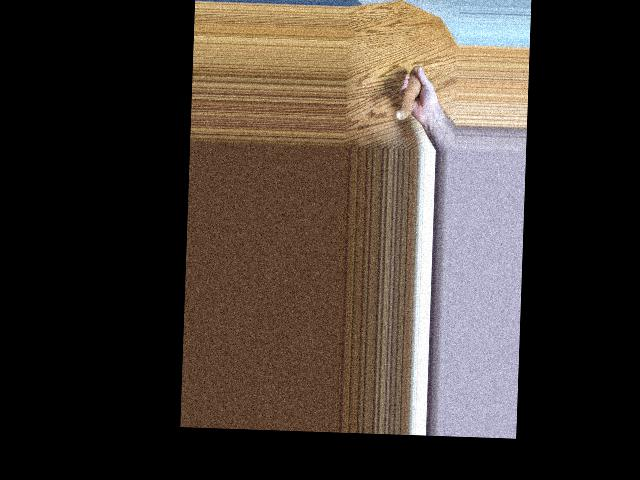sweet_potato: (396, 62, 422, 124)
